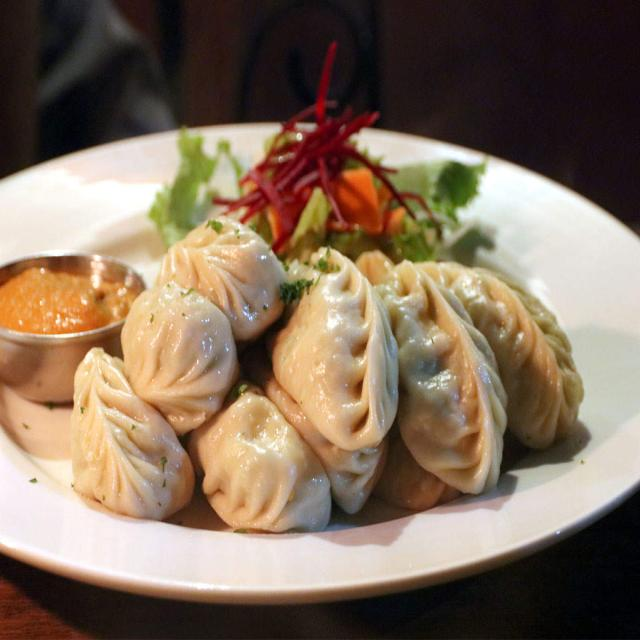momos: (124, 226, 564, 506)
